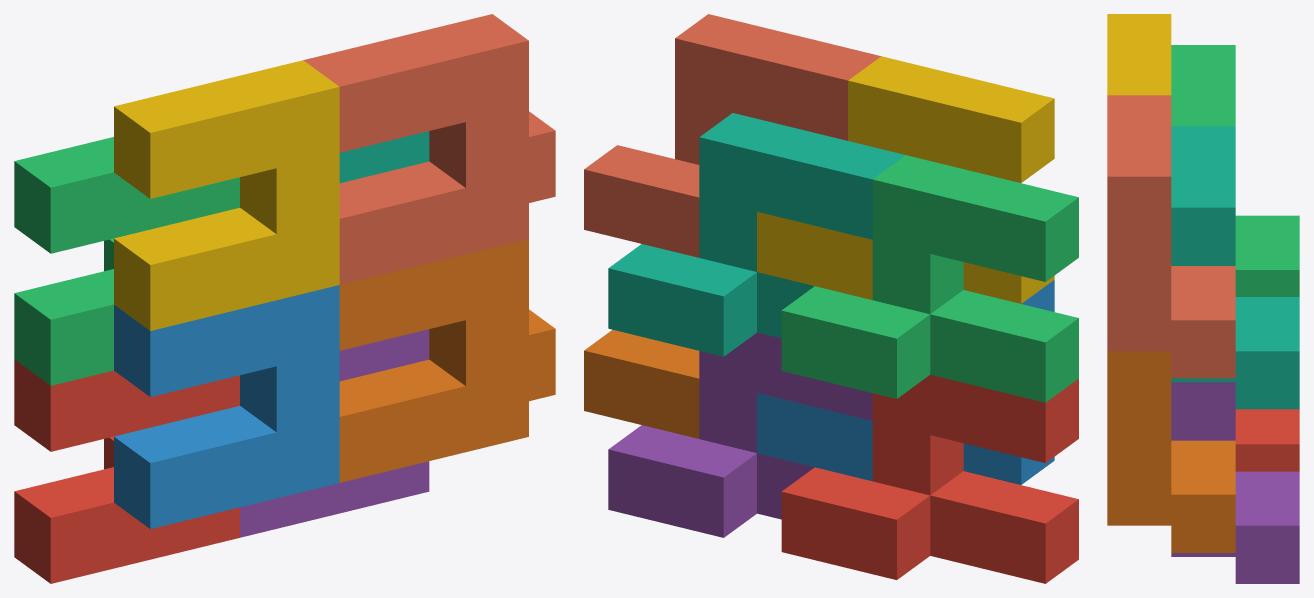
The model's file is tiling.obj.
3 renders of one model, left to right at view 1: azimuth 30°, elevation 25°; view 2: azimuth 150°, elevation 25°; view 3: azimuth 270°, elevation 25°, orthographic. The views are drawn at different scales.
Visible parts, largest first — view 1: copy_1_domain_4, copy_1_domain_8, copy_1_domain_2, copy_1_domain_6, copy_1_domain_1, copy_1_domain_3, copy_1_domain_5, copy_1_domain_7; view 2: copy_1_domain_3, copy_1_domain_1, copy_1_domain_7, copy_1_domain_8, copy_1_domain_4, copy_1_domain_5, copy_1_domain_6, copy_1_domain_2; view 3: copy_1_domain_8, copy_1_domain_6, copy_1_domain_7, copy_1_domain_5, copy_1_domain_3, copy_1_domain_4, copy_1_domain_1.
Part boxes in pixels (x1,y1,x2,y2): copy_1_domain_4: (114, 60, 339, 330); copy_1_domain_8: (303, 14, 555, 284); copy_1_domain_2: (114, 285, 339, 528); copy_1_domain_6: (339, 239, 555, 482); copy_1_domain_1: (14, 359, 239, 583); copy_1_domain_3: (14, 137, 239, 385); copy_1_domain_5: (240, 329, 429, 537); copy_1_domain_7: (339, 131, 429, 182); copy_1_domain_3: (781, 155, 1078, 402); copy_1_domain_1: (781, 374, 1078, 583); copy_1_domain_7: (608, 113, 905, 356); copy_1_domain_8: (584, 14, 880, 257); copy_1_domain_4: (757, 56, 1054, 303); copy_1_domain_5: (608, 332, 872, 537); copy_1_domain_6: (584, 329, 699, 438); copy_1_domain_2: (757, 280, 1054, 484); copy_1_domain_8: (1107, 95, 1235, 378); copy_1_domain_6: (1107, 351, 1235, 552); copy_1_domain_7: (1171, 126, 1299, 409); copy_1_domain_5: (1171, 382, 1299, 583); copy_1_domain_3: (1171, 45, 1299, 296); copy_1_domain_4: (1107, 14, 1171, 95); copy_1_domain_1: (1235, 409, 1299, 471).
Size of the model in its own units: 8 by 7 by 3.
